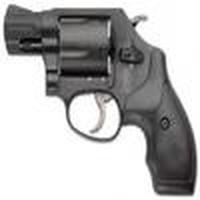gun: (3, 3, 197, 199)
